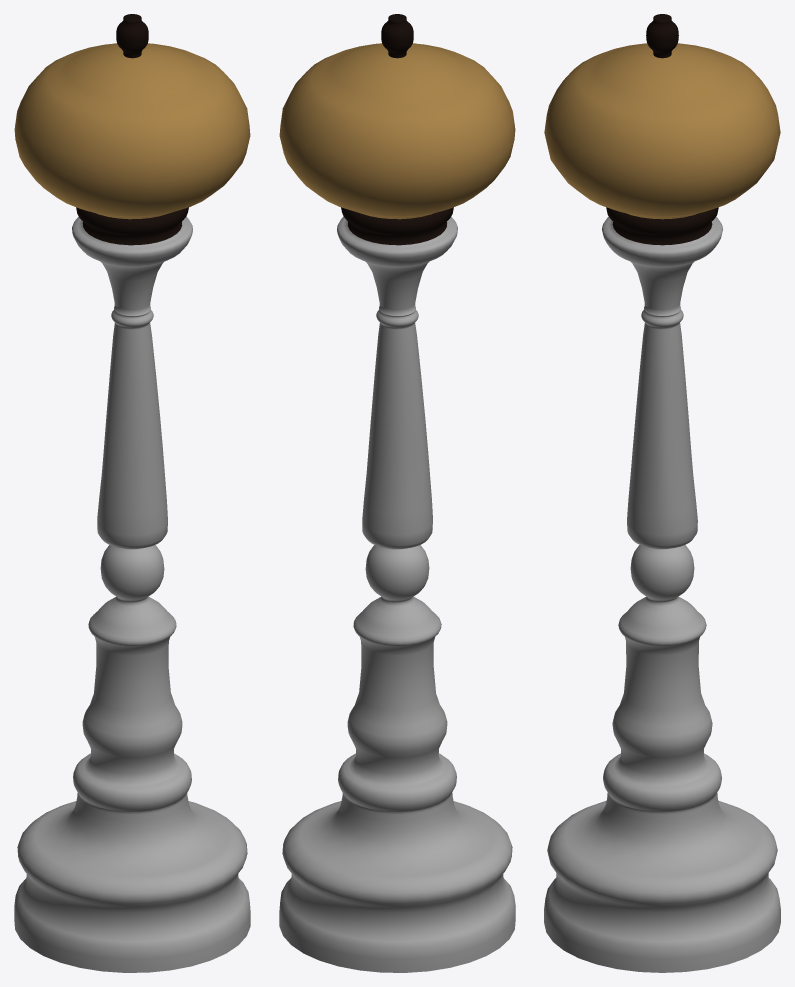
The model's file is lamppost_v01.obj.
3 renders of one model, left to right at view 1: azimuth 30°, elevation 25°; view 2: azimuth 150°, elevation 25°; view 3: azimuth 270°, elevation 25°, orthographic.
Parts seen in each view (by area): view 1: Circle; view 2: Circle; view 3: Circle.
Boxes of the visible parts, x1,y1,x2,y2 form: Circle: (14,14,250,972); Circle: (279,14,515,972); Circle: (544,14,780,972).
Size of the model in its own units: 3.42 by 14.43 by 3.42.
